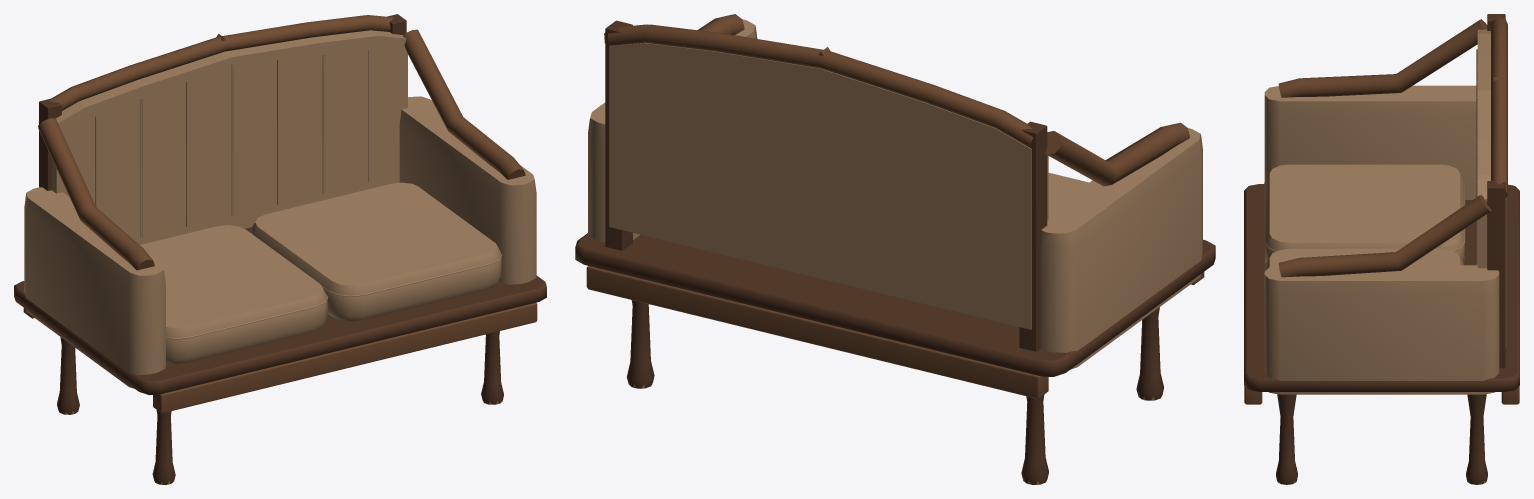
File: rpg-mansion-compact-salon-loveseat-01.glb
3 views of the same model, side by side, from view 1: azimuth 30°, elevation 25°; view 2: azimuth 150°, elevation 25°; view 3: azimuth 270°, elevation 25° (orthographic). The views are drawn at different scales.
Parts seen in each view (by area): view 1: rpg-mansion-compact-salon-loveseat-01; view 2: rpg-mansion-compact-salon-loveseat-01; view 3: rpg-mansion-compact-salon-loveseat-01.
Boxes of the visible parts, x1,y1,x2,y2 form: rpg-mansion-compact-salon-loveseat-01: [14, 14, 546, 484]; rpg-mansion-compact-salon-loveseat-01: [575, 14, 1215, 484]; rpg-mansion-compact-salon-loveseat-01: [1244, 14, 1519, 484].
Size of the model in its own units: 1.25 by 0.96 by 0.74.
